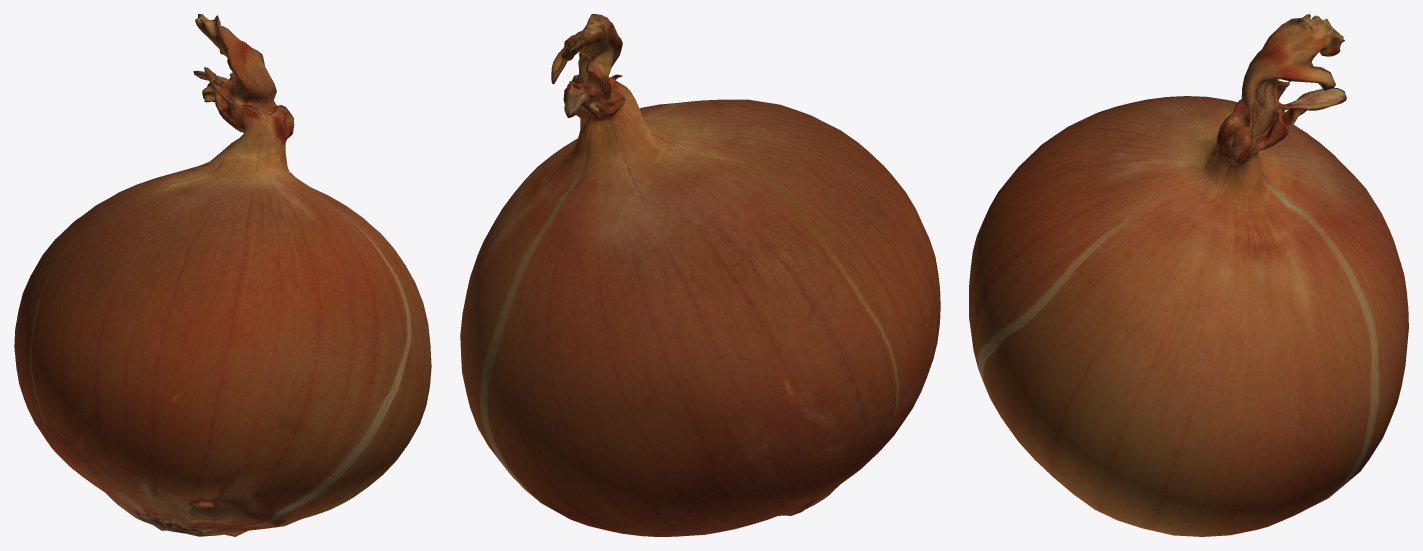
File: yellow_onion.glb
3 renders of one model, left to right at view 1: azimuth 30°, elevation 25°; view 2: azimuth 150°, elevation 25°; view 3: azimuth 270°, elevation 25°, orthographic. The views are drawn at different scales.
Parts seen in each view (by area): view 1: yellow_onion; view 2: yellow_onion; view 3: yellow_onion.
Part boxes in pixels (x1,y1,x2,y2): yellow_onion: [14, 14, 431, 536]; yellow_onion: [460, 14, 940, 536]; yellow_onion: [969, 14, 1408, 536].
Size of the model in its own units: 0.0722 by 0.0865 by 0.0686.
Materials: 1 (1 with a texture image).
